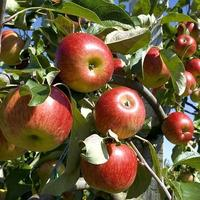apple: (5, 81, 79, 153), (75, 133, 160, 195), (49, 30, 123, 96), (92, 86, 159, 139), (136, 42, 173, 89), (164, 108, 194, 151), (1, 32, 28, 72), (175, 60, 200, 94), (172, 33, 199, 60)
